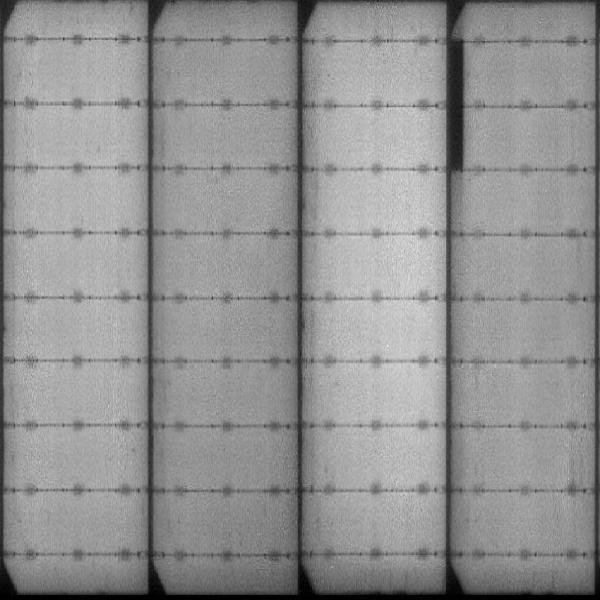black_border: (442, 40, 470, 178)
